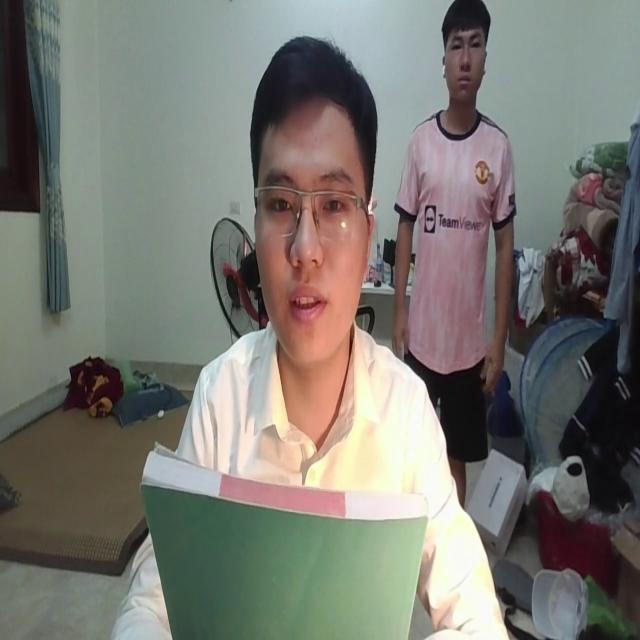book: (141, 441, 430, 638)
extra_person: (393, 0, 519, 495)
student: (117, 26, 504, 640)
